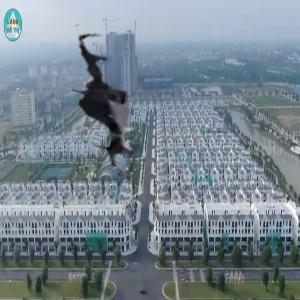drone: (32, 33, 178, 179)
